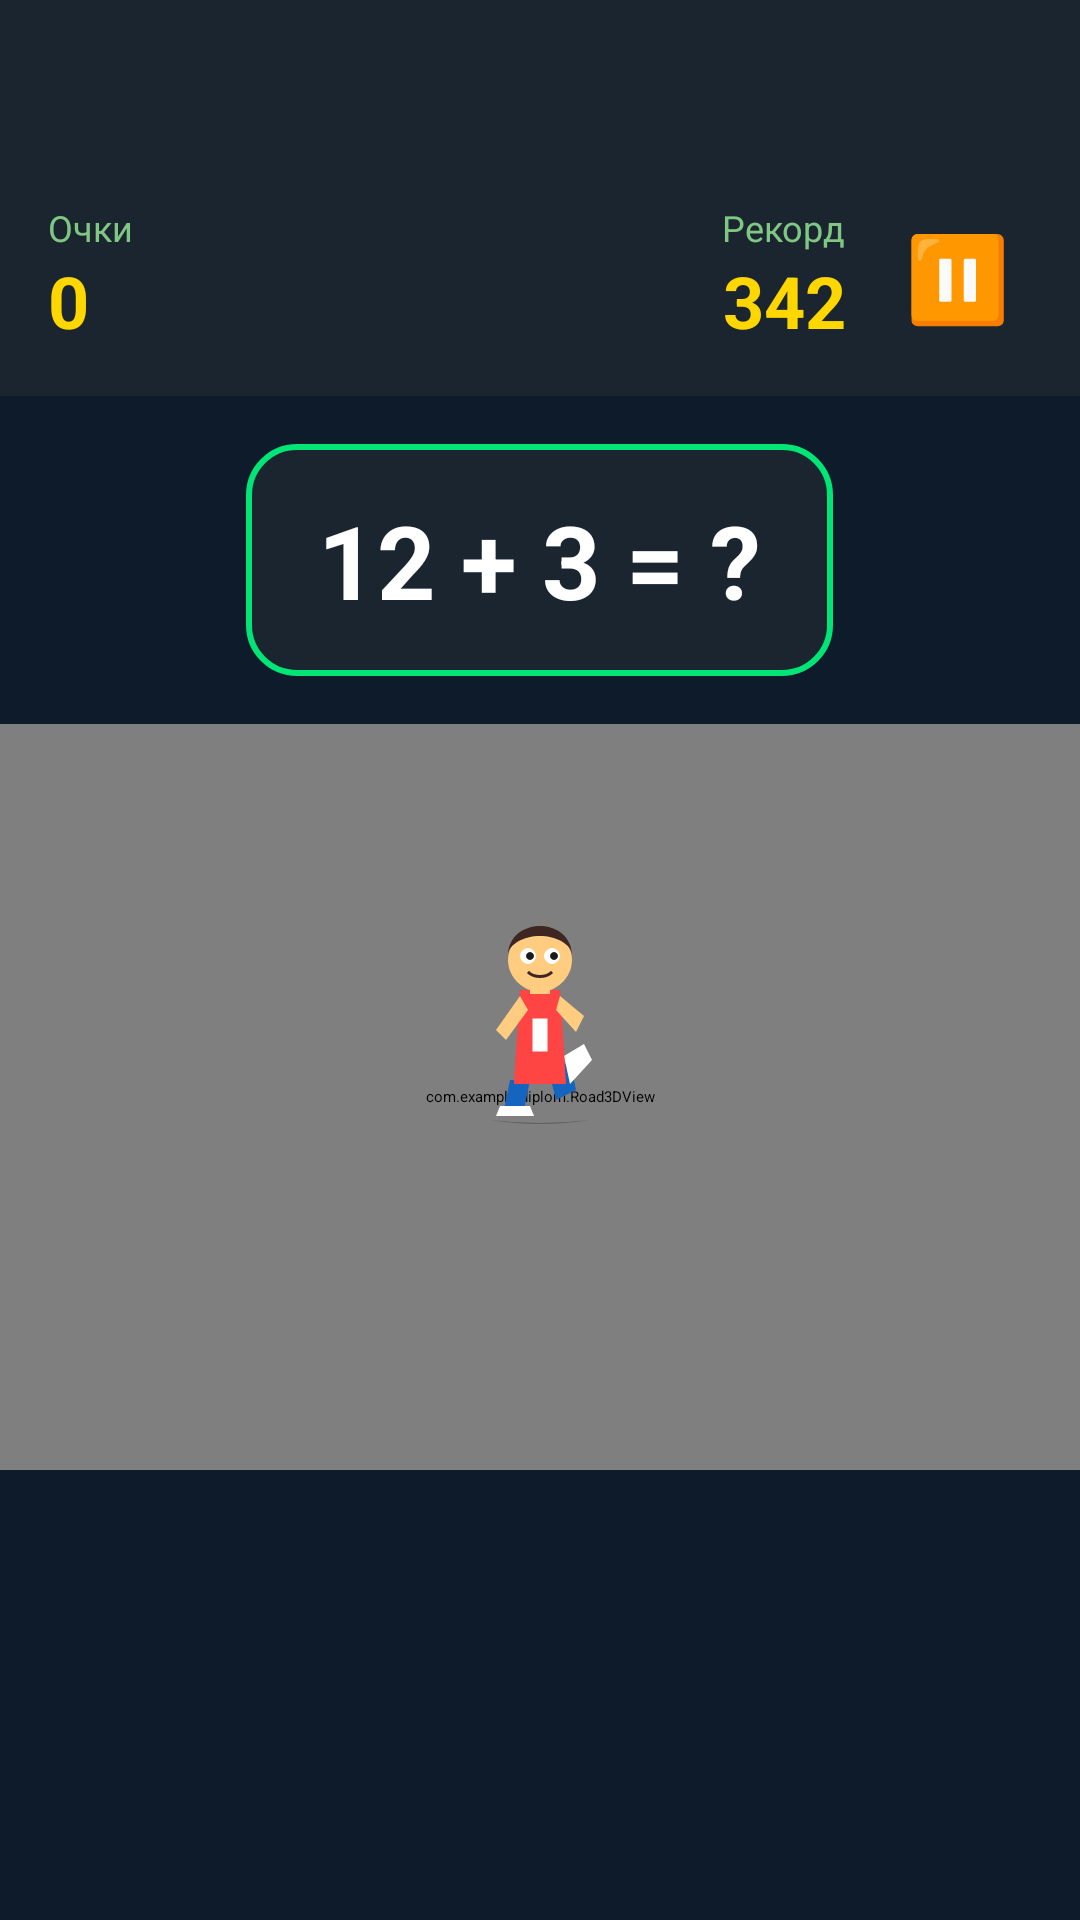

Screen size 1080x1920. Icon name, then its box in pixels as rect(x1, y1, x2, y2):
runner character: rect(426, 926, 655, 1124)
